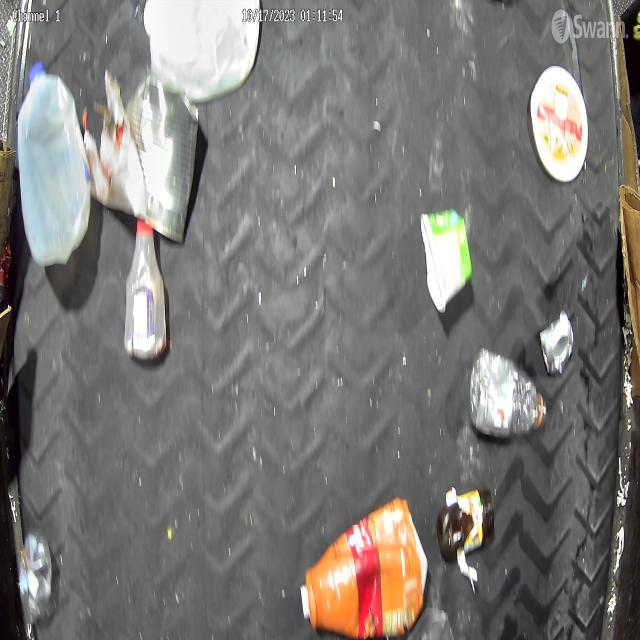can: (101, 76, 199, 244), (540, 308, 575, 377)
milk_jug: (17, 61, 95, 270), (144, 0, 260, 100)
non_white_jug: (299, 494, 433, 640)
plastic_bottle: (469, 349, 548, 438), (125, 220, 169, 361), (17, 531, 52, 637)
